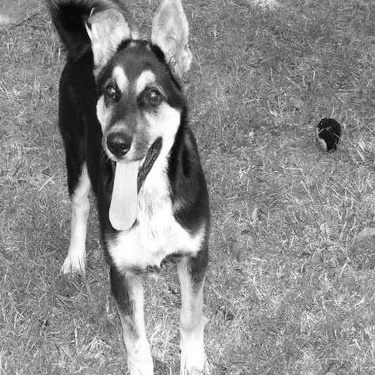dog: (29, 1, 221, 371)
